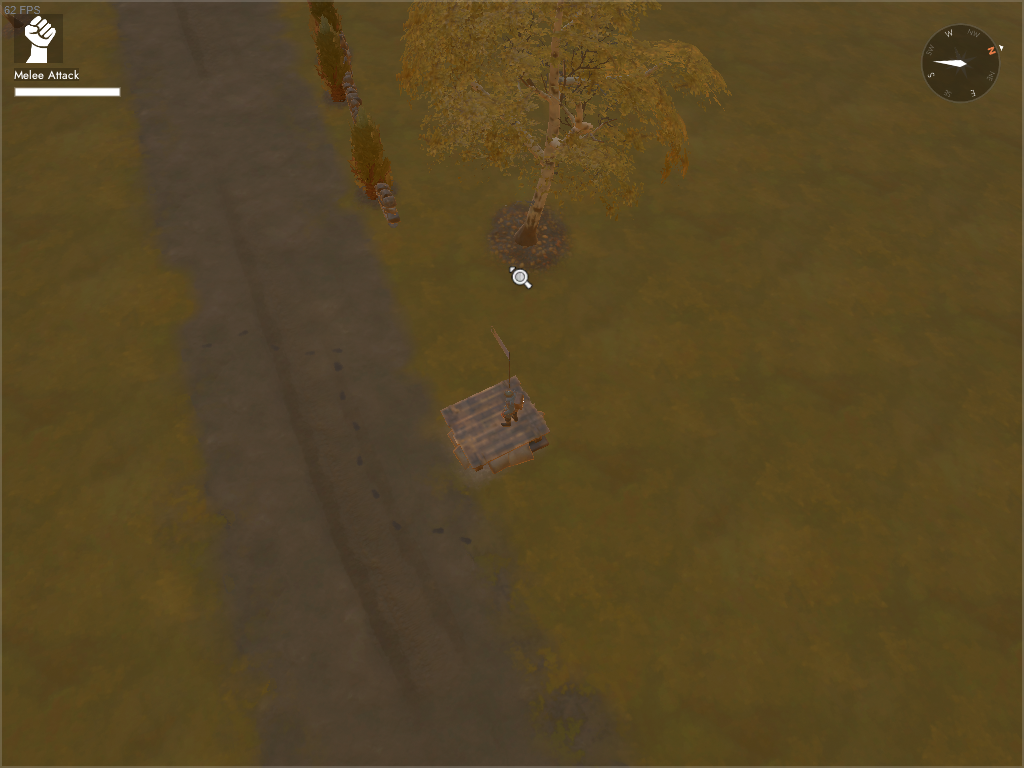pillbox: (431, 321, 555, 481)
player: (494, 385, 527, 428)
